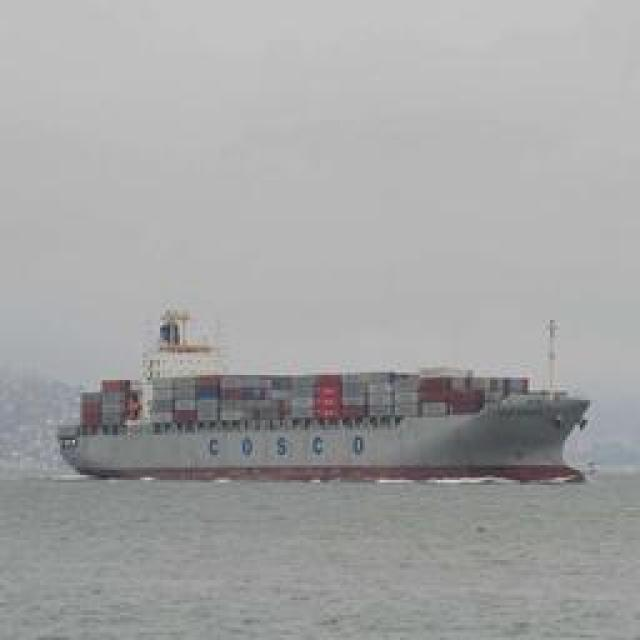CIV_Ship: (59, 374, 599, 476)
